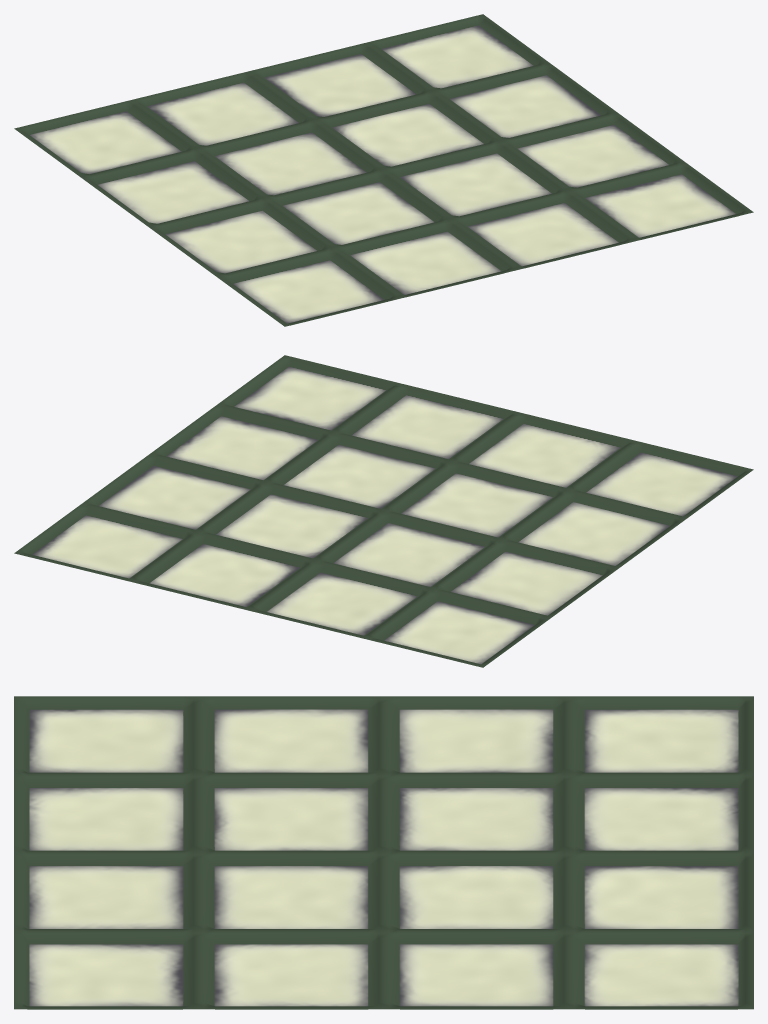
Rendered from highres_plane.fbx.
3 renders of one model, top to bottom at view 1: azimuth 30°, elevation 25°; view 2: azimuth 150°, elevation 25°; view 3: azimuth 270°, elevation 25°, orthographic. The views are drawn at different scales.
Parts seen in each view (by area): view 1: pPlane1; view 2: pPlane1; view 3: pPlane1.
Boxes of the visible parts, x1,y1,x2,y2 form: pPlane1: (14,14,753,326); pPlane1: (14,355,753,667); pPlane1: (14,696,753,1009).
Bounding box in the file's own units: 295 × 2.96 × 295.
